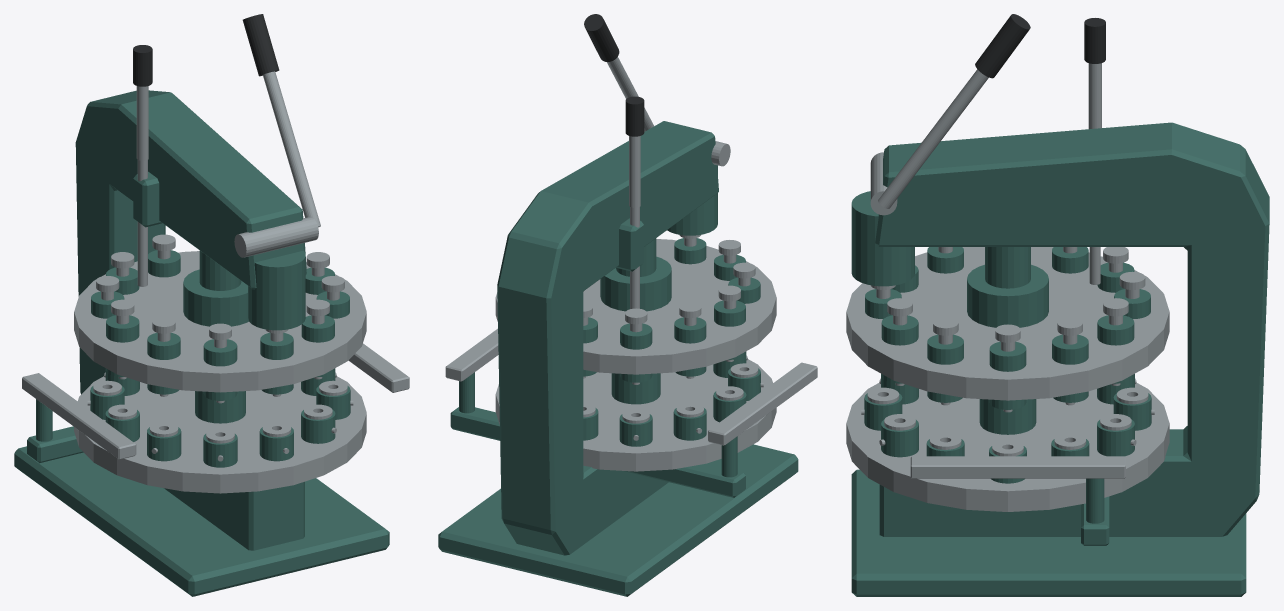
The model's file is full.fbx.
3 views of the same model, side by side, from view 1: azimuth 30°, elevation 25°; view 2: azimuth 150°, elevation 25°; view 3: azimuth 270°, elevation 25° (orthographic). The views are drawn at different scales.
Visible parts, largest first — view 1: Deep C casting, Machine mounting base, Upper turret, Lower turret, Front ram guide, Side gauge rail -1, Upper hub, Operating arm, Cam pivot, Side gauge rail 1, Operating grip, Index mounting lug (+23 smaller); view 2: Deep C casting, Machine mounting base, Upper turret, Lower turret, Side gauge rail -1, Upper hub, Side table bracket -1, Side gauge rail 1, Central turret column, Side table bracket 1, Front ram guide, Index mounting lug (+17 smaller); view 3: Deep C casting, Machine mounting base, Upper turret, Lower turret, Side gauge rail 1, Upper hub, Front ram guide, Operating arm, Hub support, Operating grip, Central turret column, Upper punch sleeve 3 (+18 smaller).
Part boxes in pixels (x1,y1,x2,y2): Deep C casting: [75, 90, 306, 550]; Machine mounting base: [14, 446, 389, 596]; Upper turret: [74, 251, 366, 392]; Lower turret: [74, 376, 366, 493]; Front ram guide: [248, 250, 305, 330]; Side gauge rail -1: [22, 373, 136, 459]; Upper hub: [183, 269, 248, 326]; Operating arm: [263, 71, 320, 227]; Cam pivot: [234, 217, 318, 257]; Side gauge rail 1: [348, 343, 409, 392]; Operating grip: [242, 14, 279, 76]; Index mounting lug: [133, 171, 162, 227]; Deep C casting: [497, 121, 718, 555]; Machine mounting base: [438, 444, 798, 596]; Upper turret: [495, 239, 776, 374]; Lower turret: [495, 359, 776, 471]; Side gauge rail -1: [708, 362, 817, 445]; Upper hub: [600, 256, 671, 311]; Side table bracket -1: [624, 463, 745, 497]; Side gauge rail 1: [445, 328, 498, 381]; Central turret column: [611, 373, 660, 404]; Side table bracket 1: [450, 407, 500, 440]; Front ram guide: [667, 165, 717, 235]; Index mounting lug: [616, 218, 643, 271]; Deep C casting: [875, 122, 1269, 536]; Machine mounting base: [851, 469, 1246, 596]; Upper turret: [846, 247, 1169, 400]; Lower turret: [846, 382, 1169, 511]; Side gauge rail 1: [910, 456, 1125, 478]; Upper hub: [967, 264, 1048, 327]; Front ram guide: [851, 191, 914, 286]; Operating arm: [878, 69, 988, 208]; Hub support: [985, 247, 1030, 288]; Operating grip: [975, 14, 1030, 78]; Central turret column: [979, 399, 1036, 434]; Upper punch sleeve 3: [989, 341, 1026, 409].
Size of the model in its own units: 74 by 118 by 82.5.
